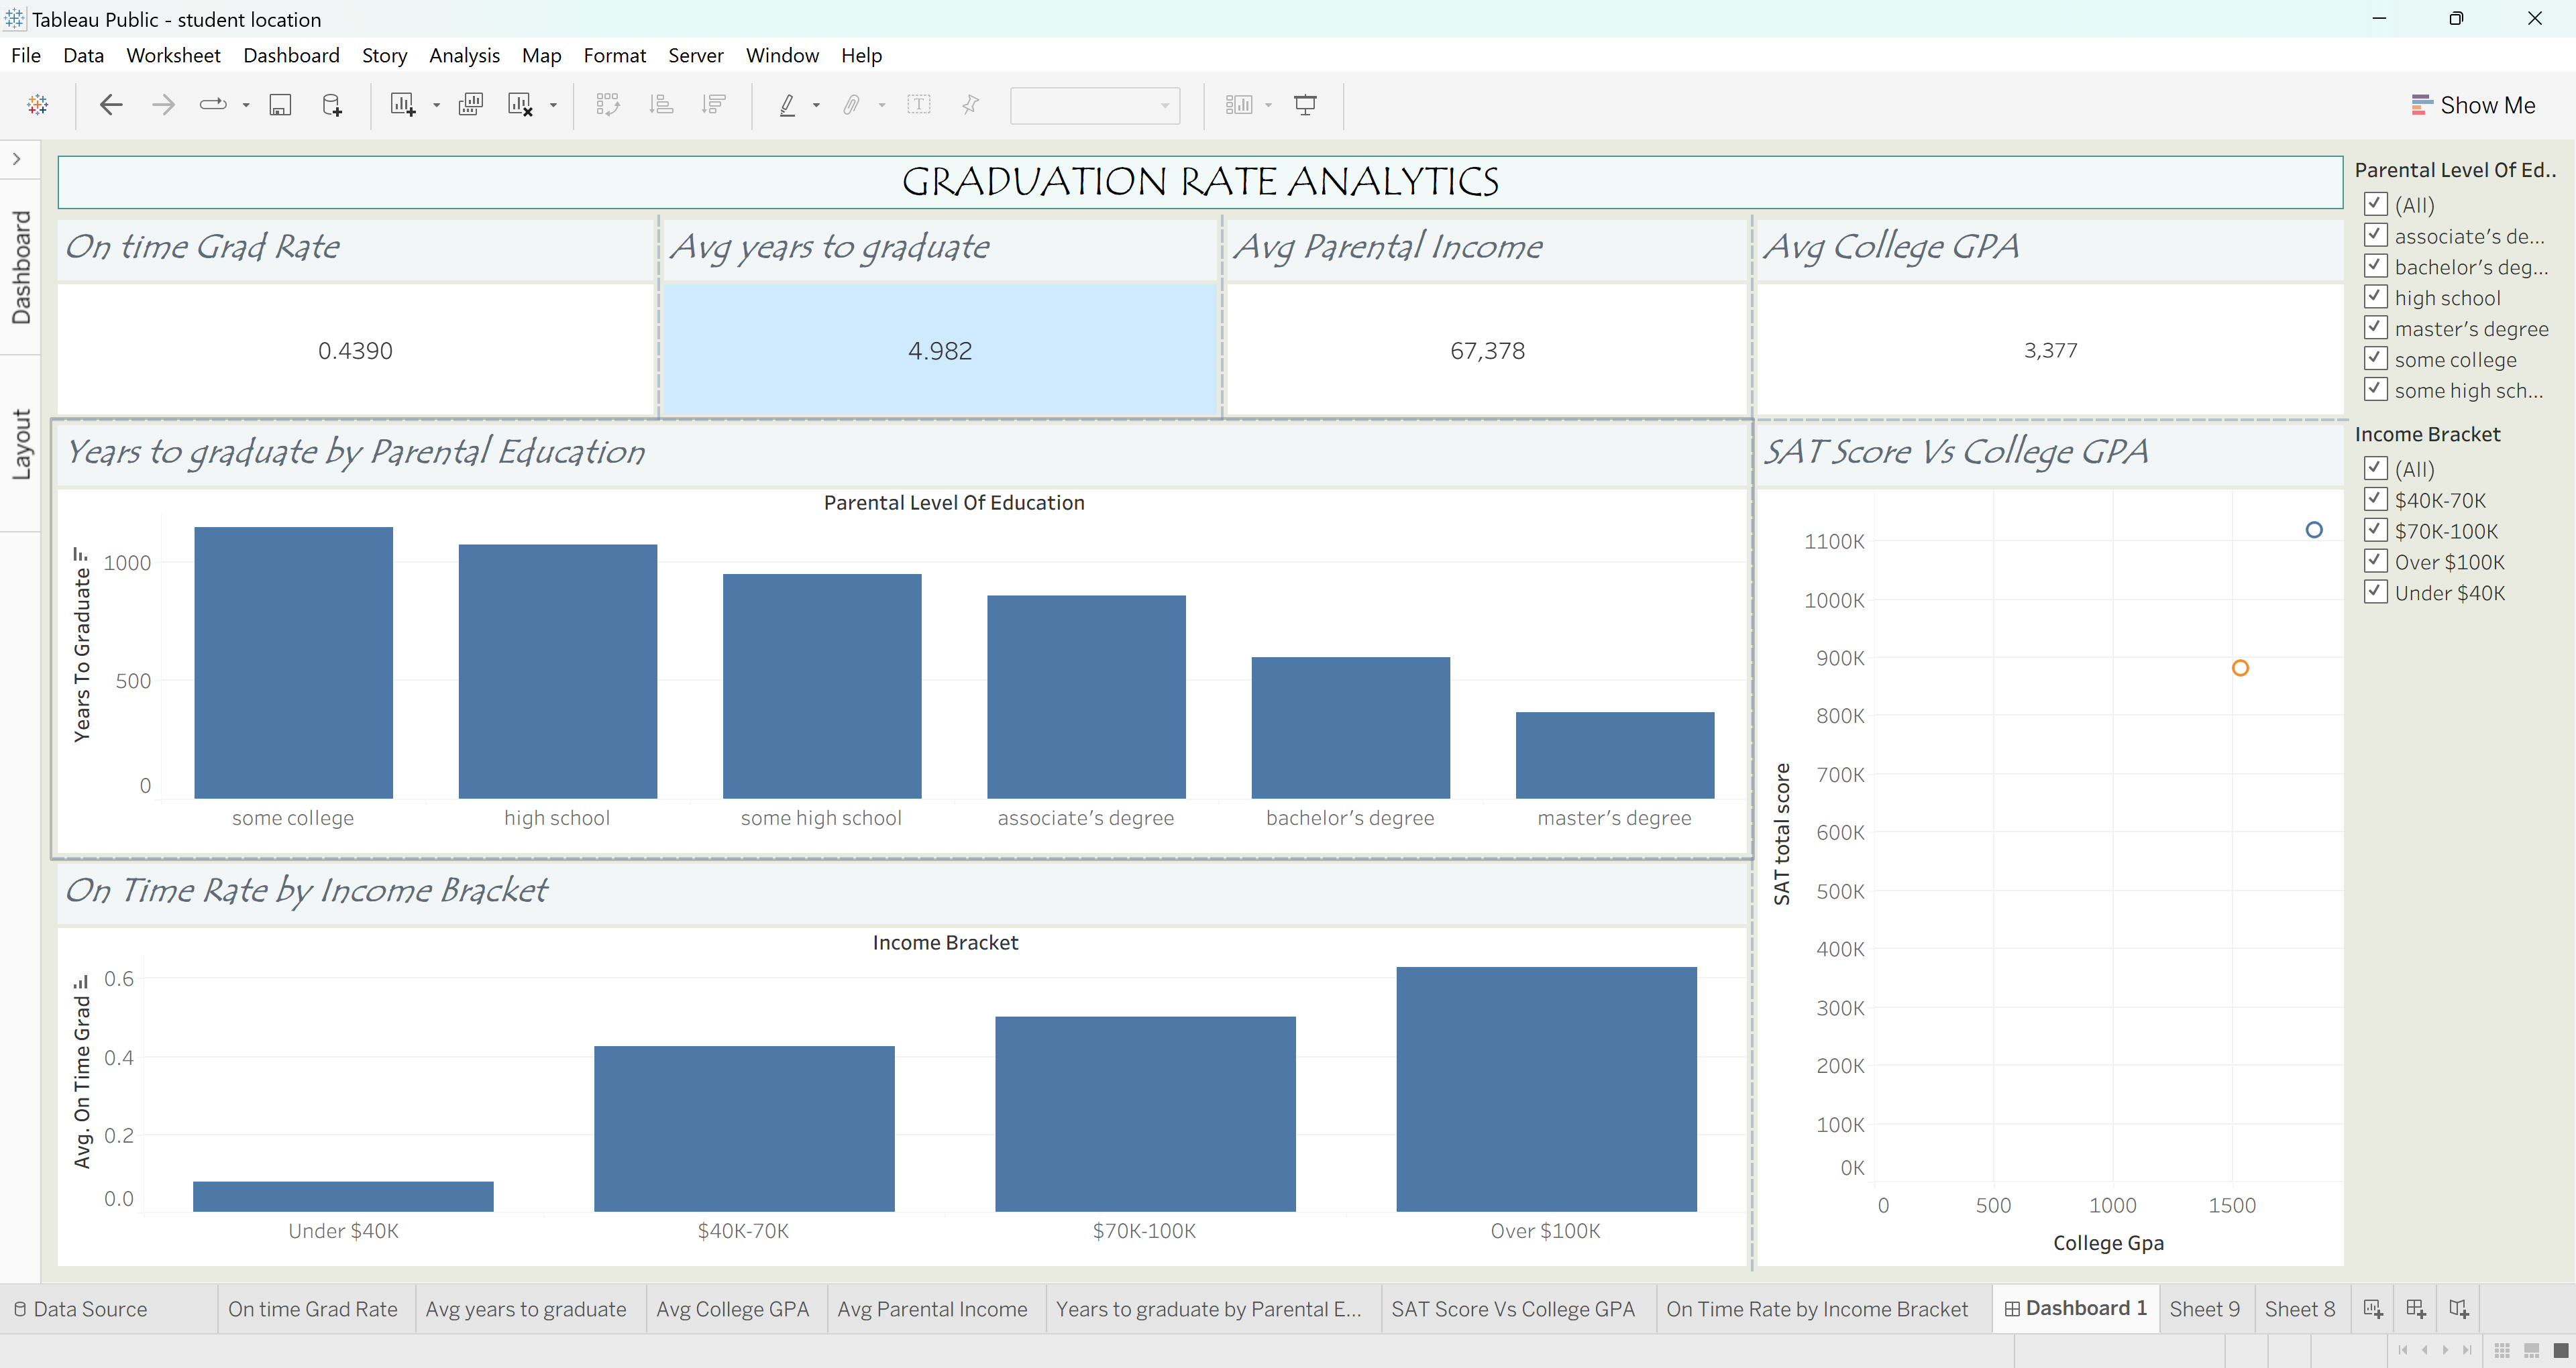

Layout of this report page (visuals, bound fields, positions):
{"tool":"tableau","page":{"name":"Dashboard 1","canvas":[1000,1000],"units":"permille","ordinal":0},"visuals":[{"type":"title","box":[4.2,9.4,906.8,56.3]},{"type":"filter","title":"Avg College GPA","param":"[federated.0750vtb0pskmjw1fmu9no1tiz8i8].[none:parental level of education:nk]","box":[911,9.4,84.8,231.2]},{"type":"worksheet","title":"On time Grad Rate","mark":"Automatic","box":[4.2,65.7,239.4,179.2]},{"type":"worksheet","title":"Avg years to graduate","mark":"Automatic","box":[243.6,65.7,222.3,179.2]},{"type":"worksheet","title":"Avg Parental Income","mark":"Automatic","box":[465.9,65.7,209.4,179.2]},{"type":"worksheet","title":"Avg College GPA","mark":"Automatic","box":[675.3,65.7,235.7,179.2]},{"type":"filter","title":"Avg College GPA","param":"[federated.0750vtb0pskmjw1fmu9no1tiz8i8].[none:income_bracket:nk]","box":[911,240.6,84.8,226.5]},{"type":"worksheet","title":"Years to graduate by Parental Education","mark":"Automatic","rows":["years to graduate"],"cols":["parental level of education"],"box":[4.2,244.9,671,383.9]},{"type":"worksheet","title":"SAT Score Vs College GPA","mark":"Automatic","rows":["SAT total score"],"cols":["college gpa"],"box":[675.3,244.9,235.8,745.7]},{"type":"worksheet","title":"On Time Rate by Income Bracket","mark":"Automatic","rows":["on_time_grad"],"cols":["income_bracket"],"box":[4.2,628.8,671,361.8]}]}

Visuals, with their boxes on the dashboard's canvas, which has no fixed pixel size, in thousandths of its width and height (x1, y1, x2, y2). These are canvas units, not pixel positions in the 2576x1368 screenshot, which may show the page scaled, cropped or inside an application window:
title: {"x1": 4, "y1": 9, "x2": 911, "y2": 66}
"Avg College GPA" filter: {"x1": 911, "y1": 9, "x2": 996, "y2": 241}
"On time Grad Rate" worksheet: {"x1": 4, "y1": 66, "x2": 244, "y2": 245}
"Avg years to graduate" worksheet: {"x1": 244, "y1": 66, "x2": 466, "y2": 245}
"Avg Parental Income" worksheet: {"x1": 466, "y1": 66, "x2": 675, "y2": 245}
"Avg College GPA" worksheet: {"x1": 675, "y1": 66, "x2": 911, "y2": 245}
"Avg College GPA" filter: {"x1": 911, "y1": 241, "x2": 996, "y2": 467}
"Years to graduate by Parental Education" worksheet: {"x1": 4, "y1": 245, "x2": 675, "y2": 629}
"SAT Score Vs College GPA" worksheet: {"x1": 675, "y1": 245, "x2": 911, "y2": 991}
"On Time Rate by Income Bracket" worksheet: {"x1": 4, "y1": 629, "x2": 675, "y2": 991}
